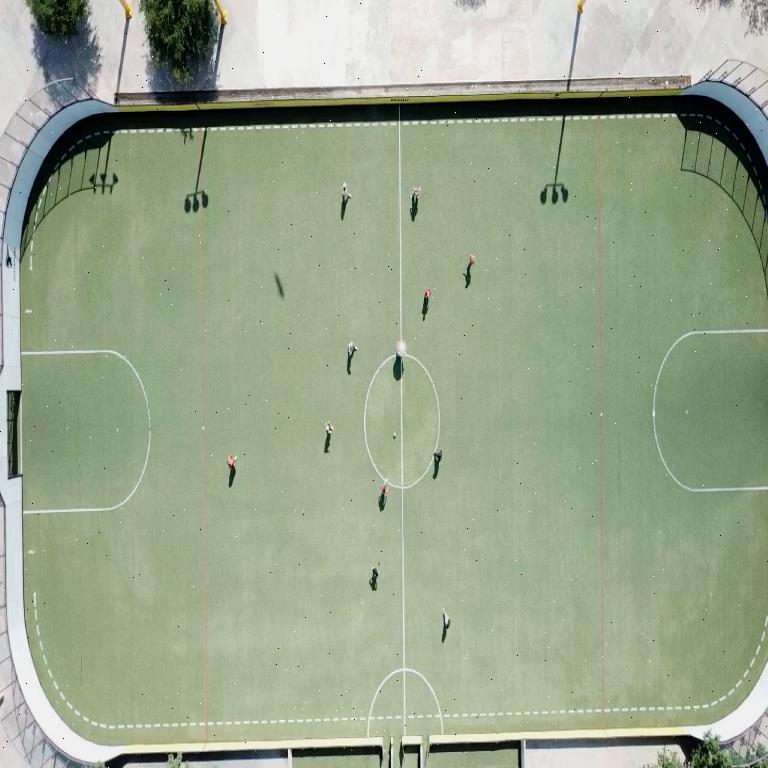AC: (21, 350, 150, 514), (652, 329, 767, 492)
B: (394, 432, 396, 437)
MC: (399, 368, 405, 734)
P: (341, 182, 350, 201), (411, 186, 420, 205), (226, 454, 236, 471), (397, 339, 407, 356), (348, 342, 358, 358), (373, 562, 380, 582), (443, 608, 449, 630), (380, 480, 387, 497), (433, 448, 441, 462), (325, 422, 332, 436), (423, 288, 430, 301), (469, 254, 474, 267)
